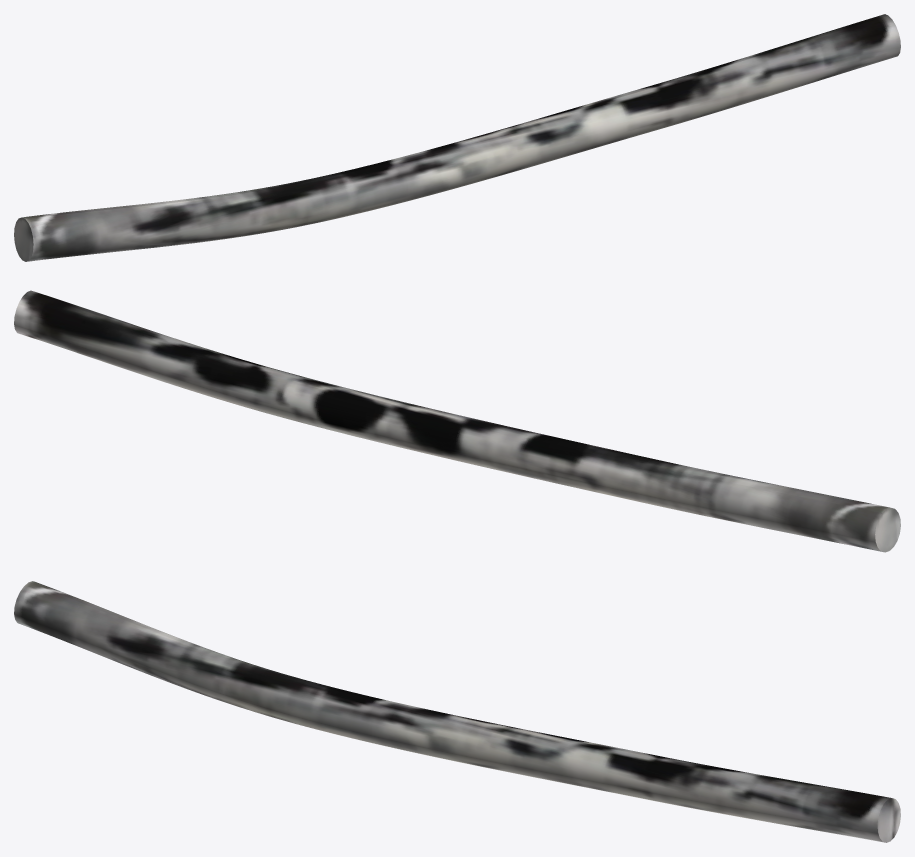
The model's file is forearm__forearm_cable.glb.
3 renders of one model, top to bottom at view 1: azimuth 30°, elevation 25°; view 2: azimuth 150°, elevation 25°; view 3: azimuth 330°, elevation 25°, orthographic.
Parts seen in each view (by area): view 1: geometry_0; view 2: geometry_0; view 3: geometry_0.
Boxes of the visible parts, bbox=[...] form: geometry_0: bbox=[14, 14, 900, 261]; geometry_0: bbox=[14, 290, 900, 552]; geometry_0: bbox=[14, 581, 900, 842].
Bounding box in the file's own units: 0.2661 × 0.0185 × 0.0179.
Materials: 1 (1 with a texture image).
